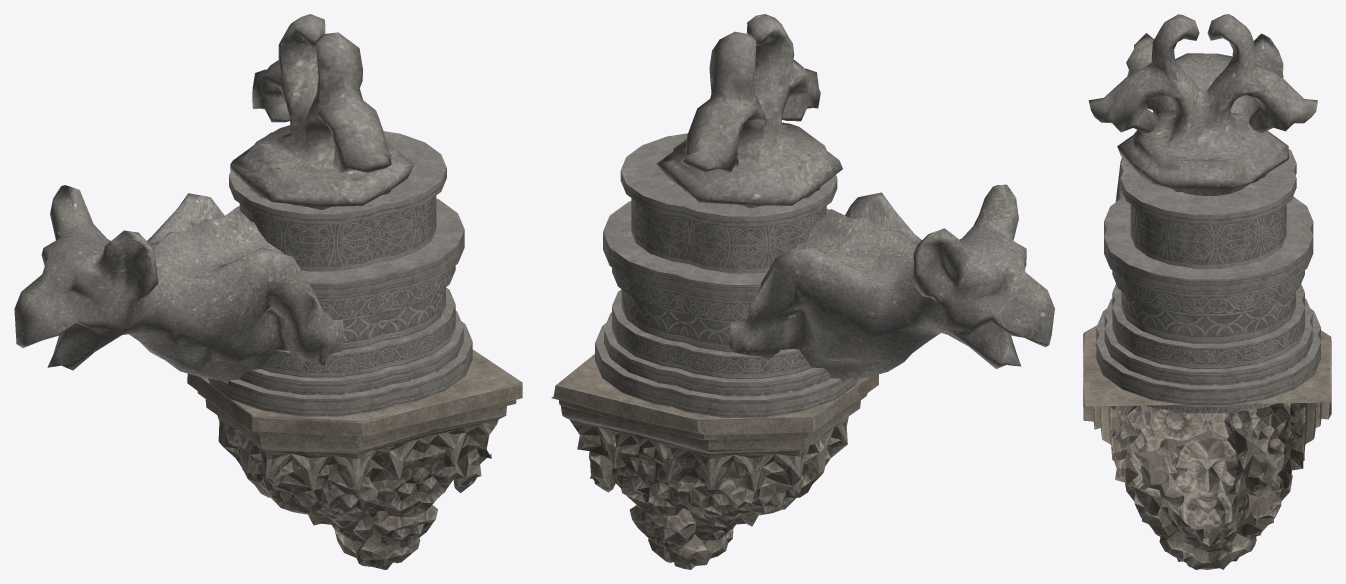
Rendered from SM_Interior_Deco_Gargoyle.fbx.
3 views of the same model, side by side, from view 1: azimuth 30°, elevation 25°; view 2: azimuth 150°, elevation 25°; view 3: azimuth 270°, elevation 25° (orthographic). The views are drawn at different scales.
Parts seen in each view (by area): view 1: SM_Interior_Deco_Gargoyle_LOD0; view 2: SM_Interior_Deco_Gargoyle_LOD0; view 3: SM_Interior_Deco_Gargoyle_LOD0.
Part boxes in pixels (x1,y1,x2,y2): SM_Interior_Deco_Gargoyle_LOD0: (14, 14, 522, 569); SM_Interior_Deco_Gargoyle_LOD0: (551, 14, 1054, 569); SM_Interior_Deco_Gargoyle_LOD0: (1083, 14, 1331, 569).
Size of the model in its own units: 222 by 115 by 268.
